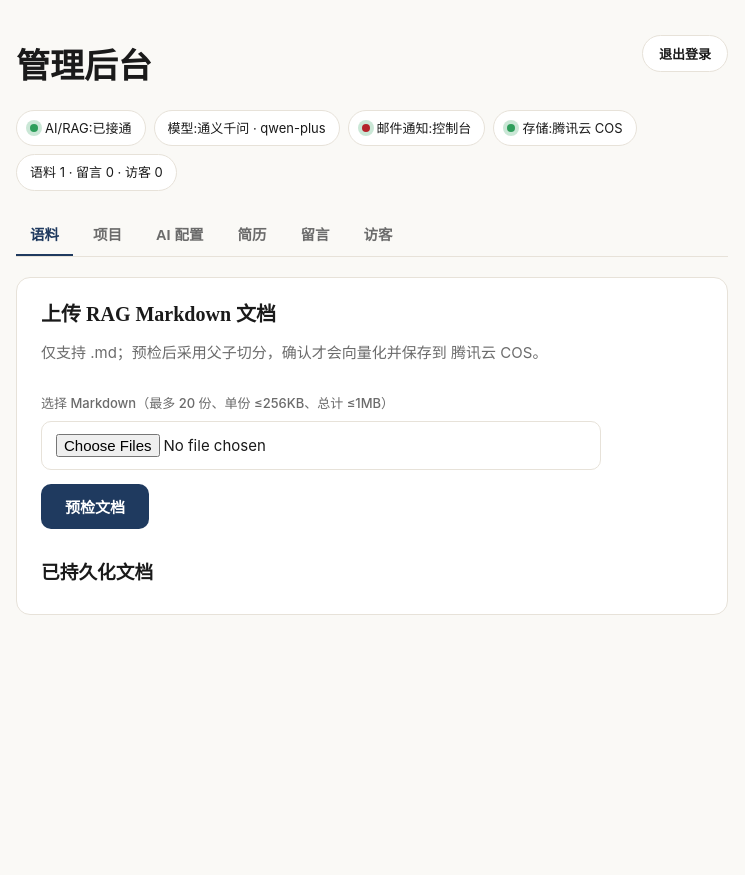
管理员会话 › 存在有效登录 cookie 时自动恢复后台界面
expect the heading "管理后台" is shown: met, box left=16, top=49, right=152, bottom=86
Click the button "AI 配置" at (180, 235), box left=142, top=213, right=218, bottom=256
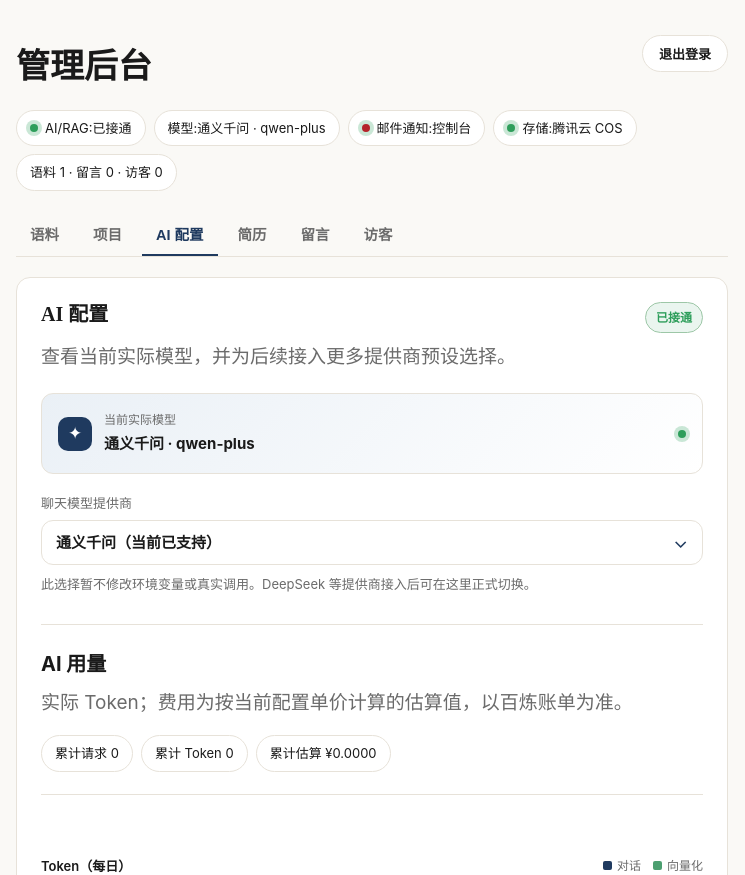
expect the dropdown labelled "聊天模型提供商" shows "通义千问（当前已支持）": met, box left=41, top=520, right=703, bottom=566
expect the text "当前实际模型" is shown: met, box left=104, top=412, right=176, bottom=428
expect the text "通义千问 · qwen-plus" is shown: met, box left=104, top=432, right=255, bottom=458
Click the button "项目" at (108, 235), box left=79, top=213, right=136, bottom=256
(page scrolled)
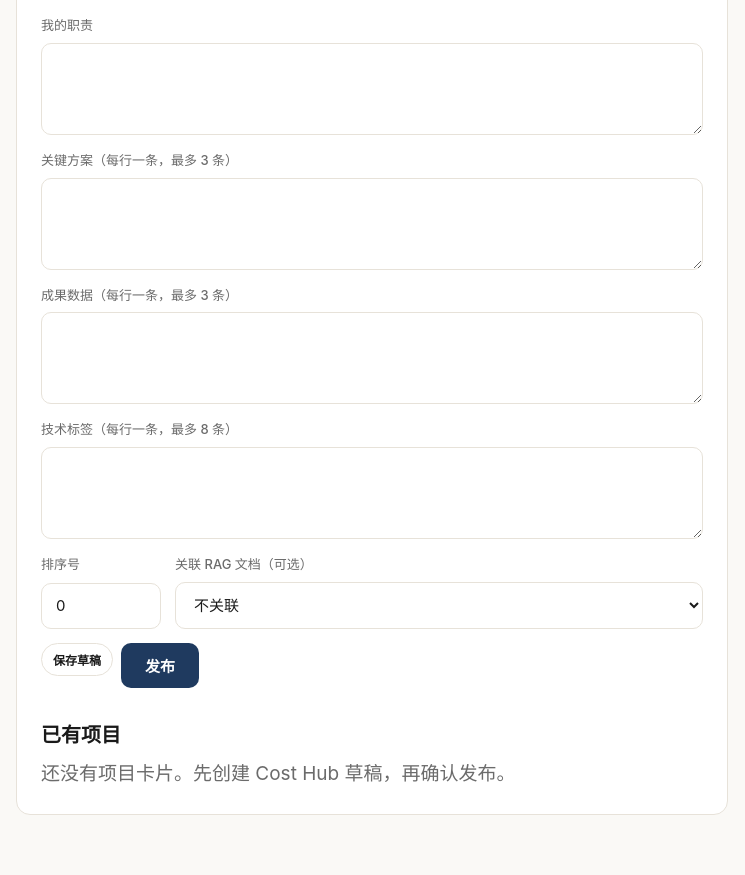
expect the button "保存草稿" is shown: met, box left=41, top=643, right=113, bottom=676
expect the button "发布" is shown: met, box left=121, top=643, right=199, bottom=688
